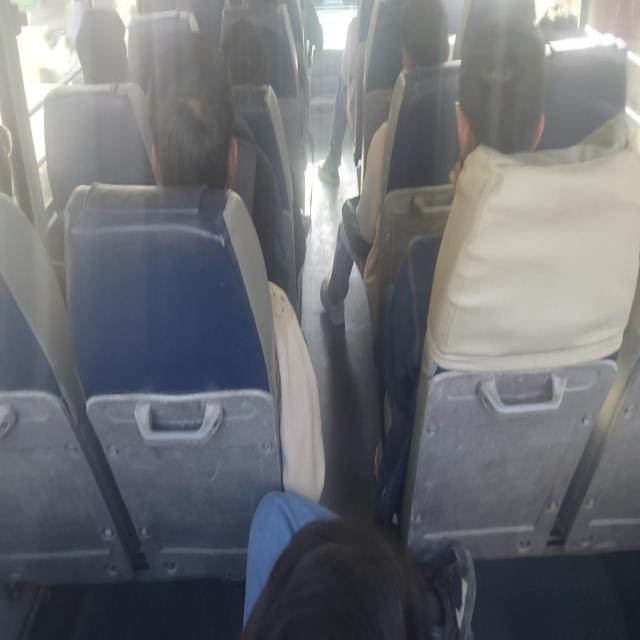person: (373, 2, 547, 528), (149, 42, 326, 503), (319, 0, 453, 326), (149, 38, 298, 308), (241, 489, 476, 638), (219, 17, 311, 278), (317, 0, 404, 187), (149, 39, 239, 189), (318, 13, 362, 186), (75, 8, 130, 84)
